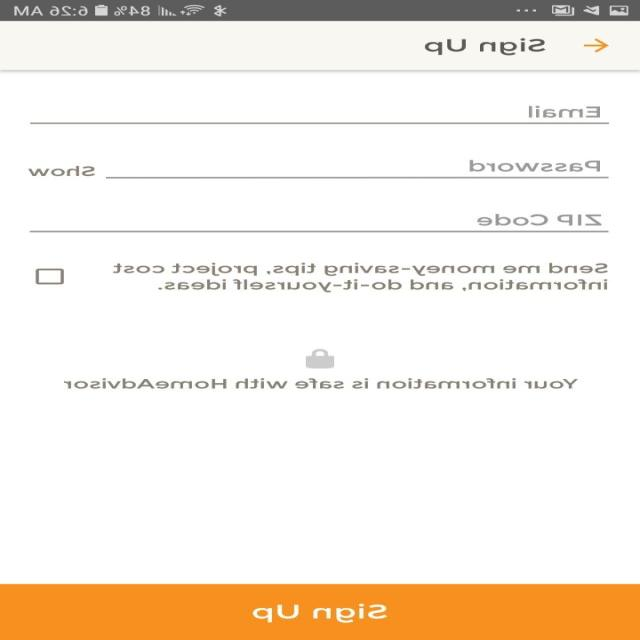EditText: (31, 104, 610, 124), (30, 213, 610, 232), (106, 160, 610, 179)
Icon: (306, 348, 336, 368), (584, 38, 610, 53)
Text: (113, 262, 609, 293), (64, 378, 579, 389), (425, 38, 547, 56), (477, 213, 603, 226), (469, 160, 601, 172), (528, 105, 601, 118), (28, 166, 96, 176)
TextButton: (1, 584, 640, 640)
